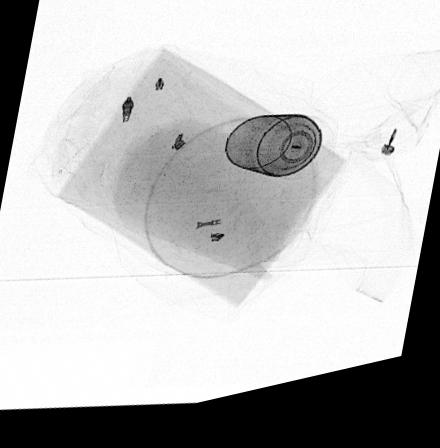Sprayer: (224, 127, 334, 194)
